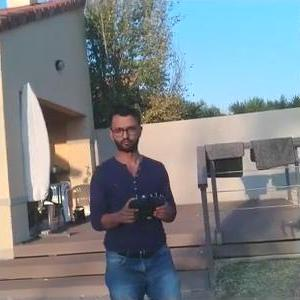follow: (94, 99, 191, 298)
